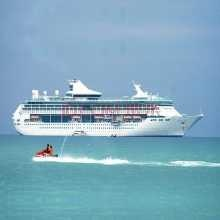youlun: (8, 80, 208, 138)
